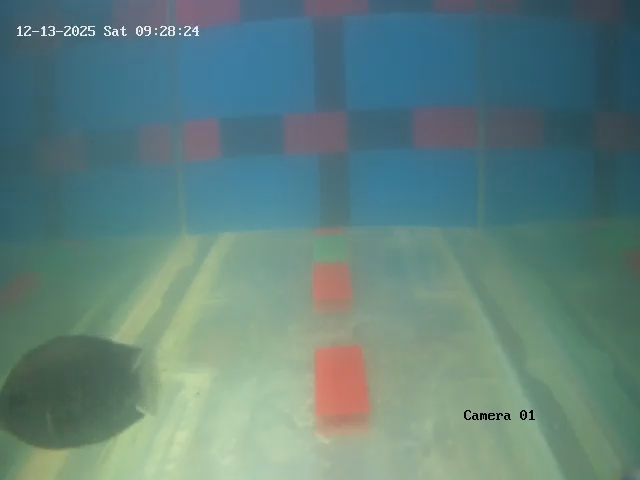fish: (5, 332, 154, 445)
